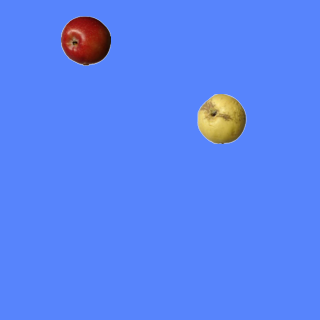Apple Braeburn: (60, 15, 110, 65)
Apple Golden 1: (196, 93, 246, 143)
